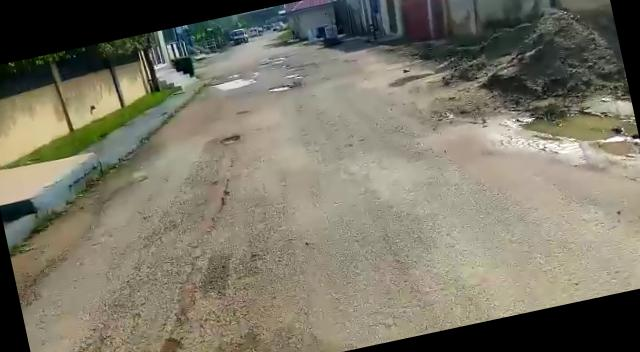pothole: (207, 74, 258, 94), (268, 80, 302, 95), (216, 132, 242, 148)
